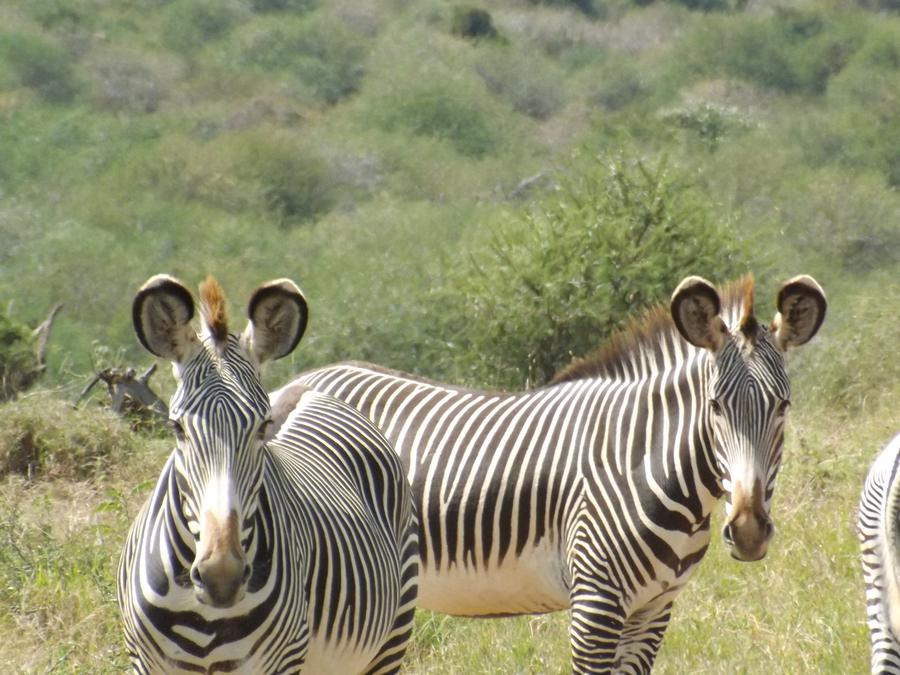zebra_grevys: (376, 353, 644, 600)
